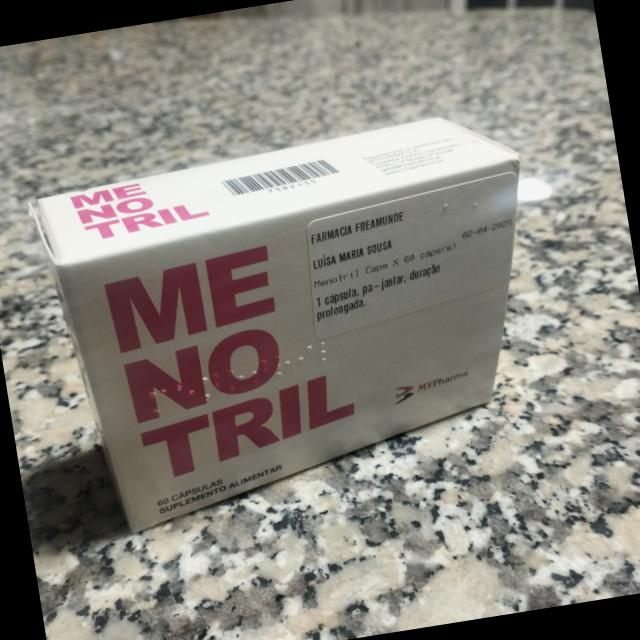box: (34, 116, 524, 534)
